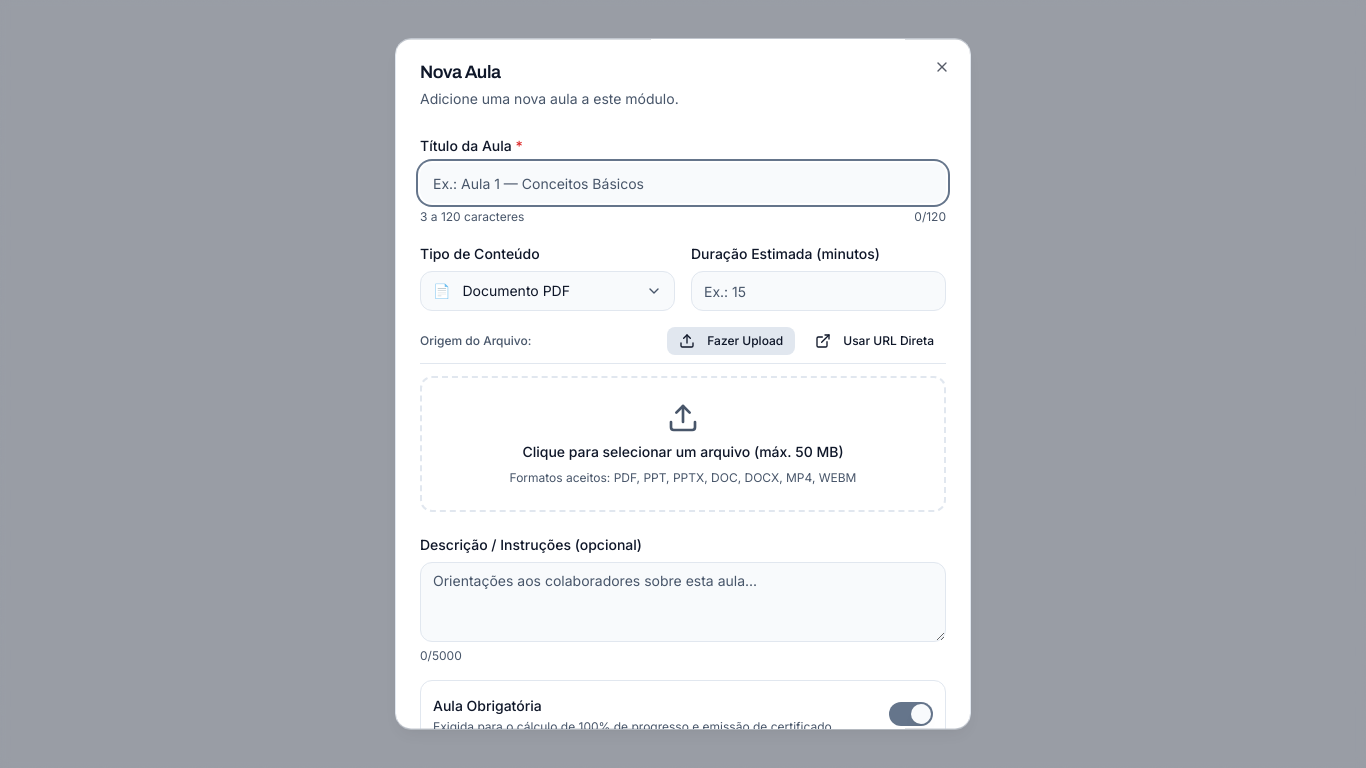
Test: ETAPA 9.6 — CRUD de Módulos, Aulas e Quiz (Passo 8.1 Validações) › d) valida URL de aula (URL inválida recusa)
The width and height of the screenshot is (1366, 768).
Type "Aula com URL inválida" into the field labelled "Título da Aula *". click: (683,183)
box: [420,163,946,203]
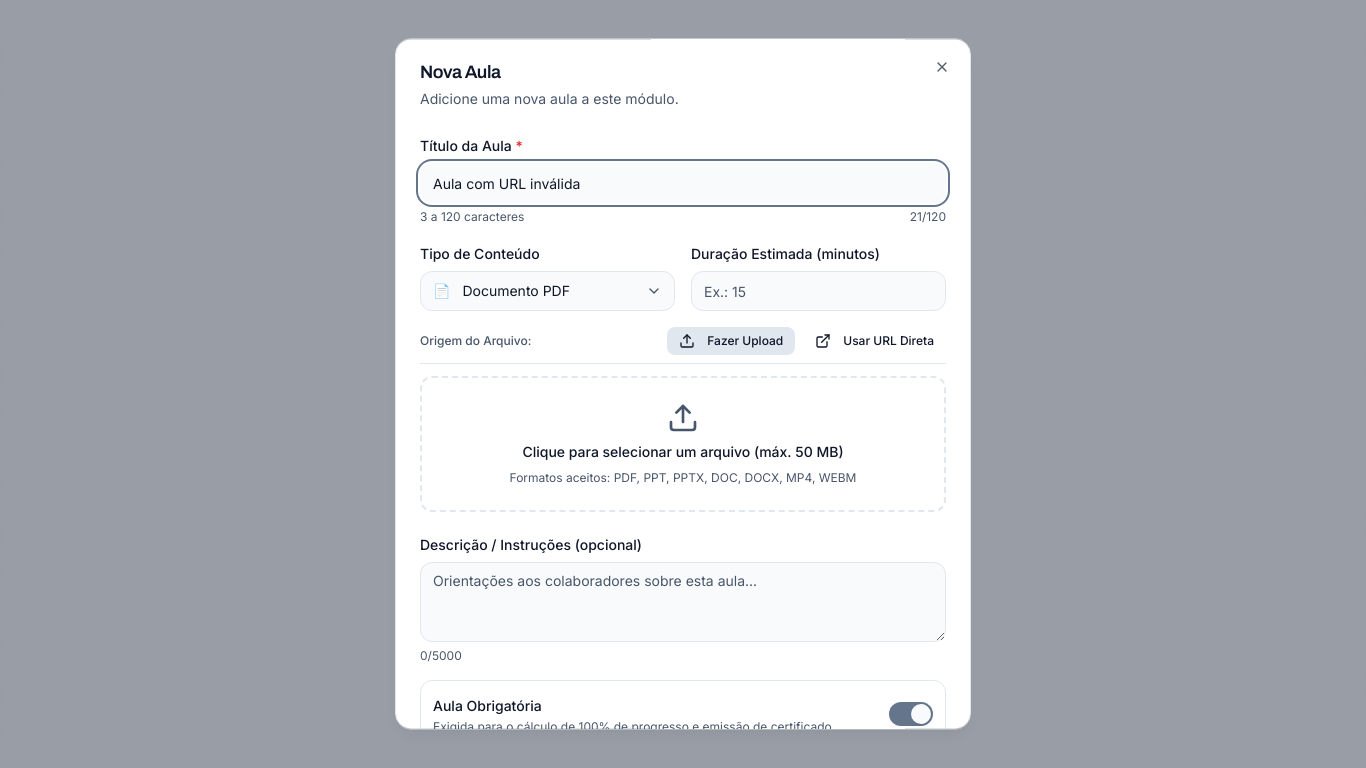
# Alternar para modo URL
Click the button "Usar URL Direta". click: (875,341)
box: [803,327,946,355]
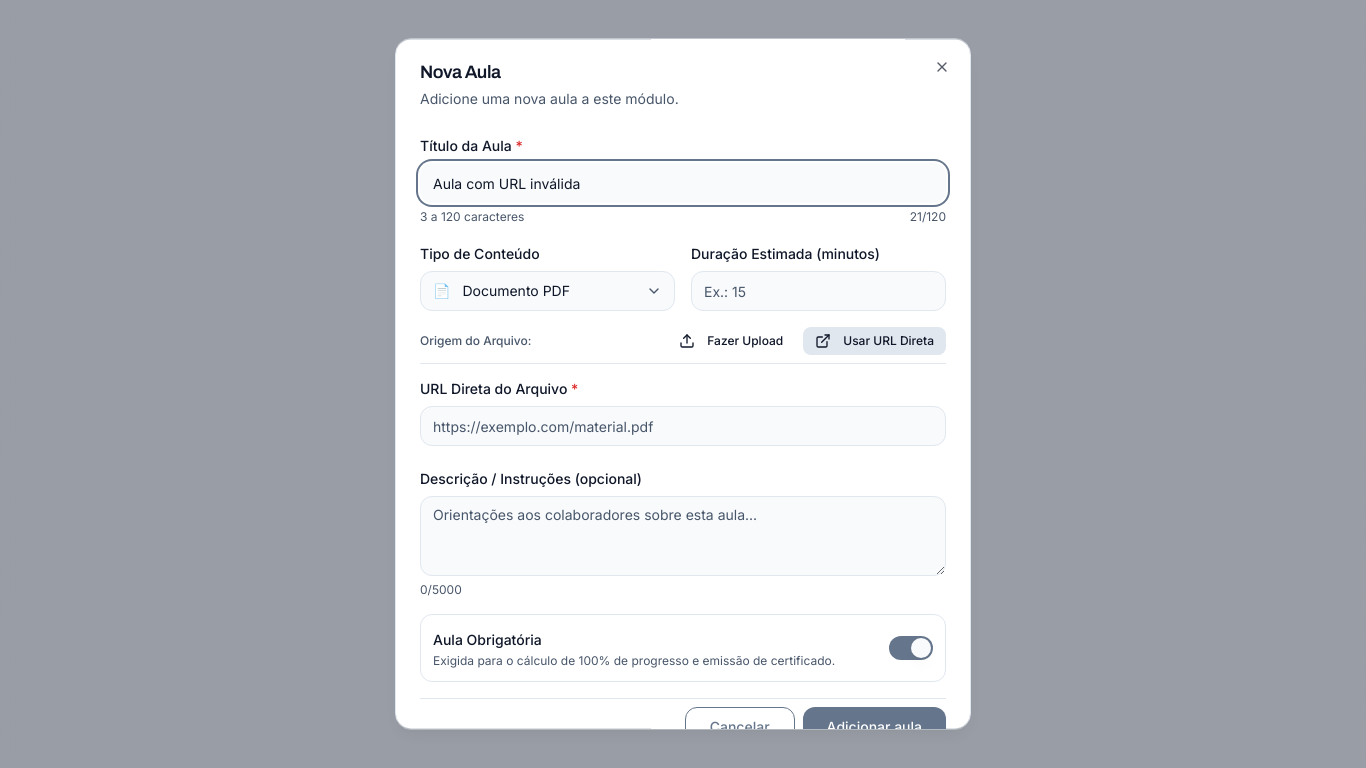
Type "htp://nao-e-uma-url" into the field labelled "URL Direta do Arquivo *". click: (683,426)
box: [420,406,946,446]
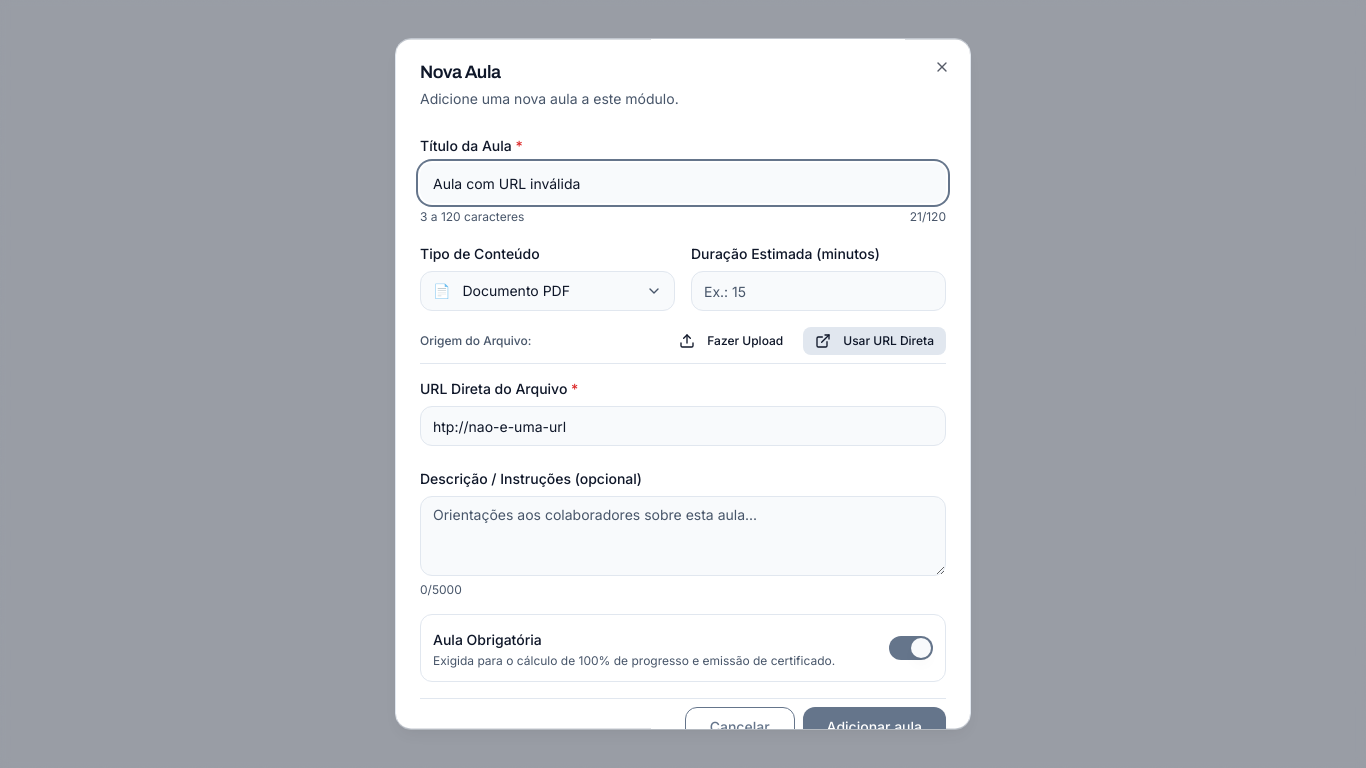
Click the button "Adicionar aula". click: (874,727)
box: [803,707,946,747]
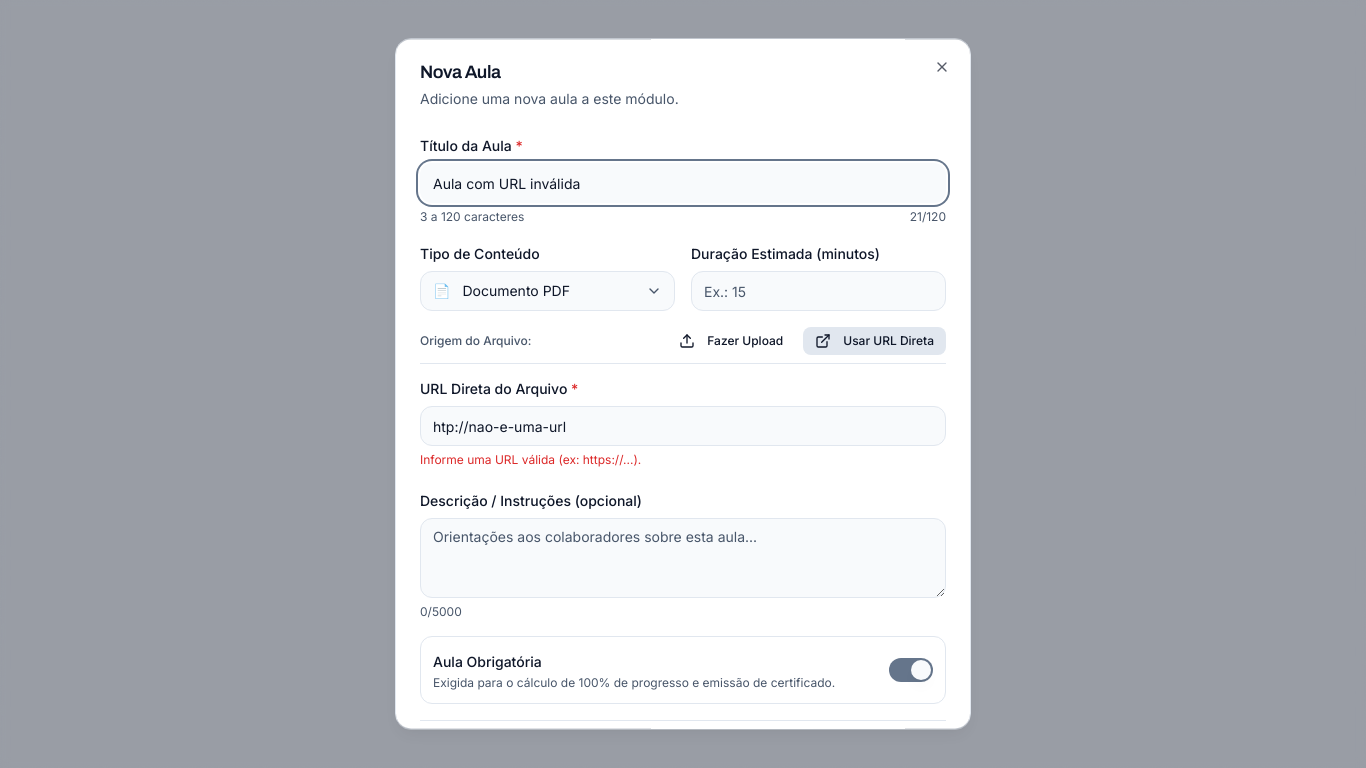
Expected: the text "Informe uma URL válida (ex: https://...)." is shown, [420,452,641,467]
